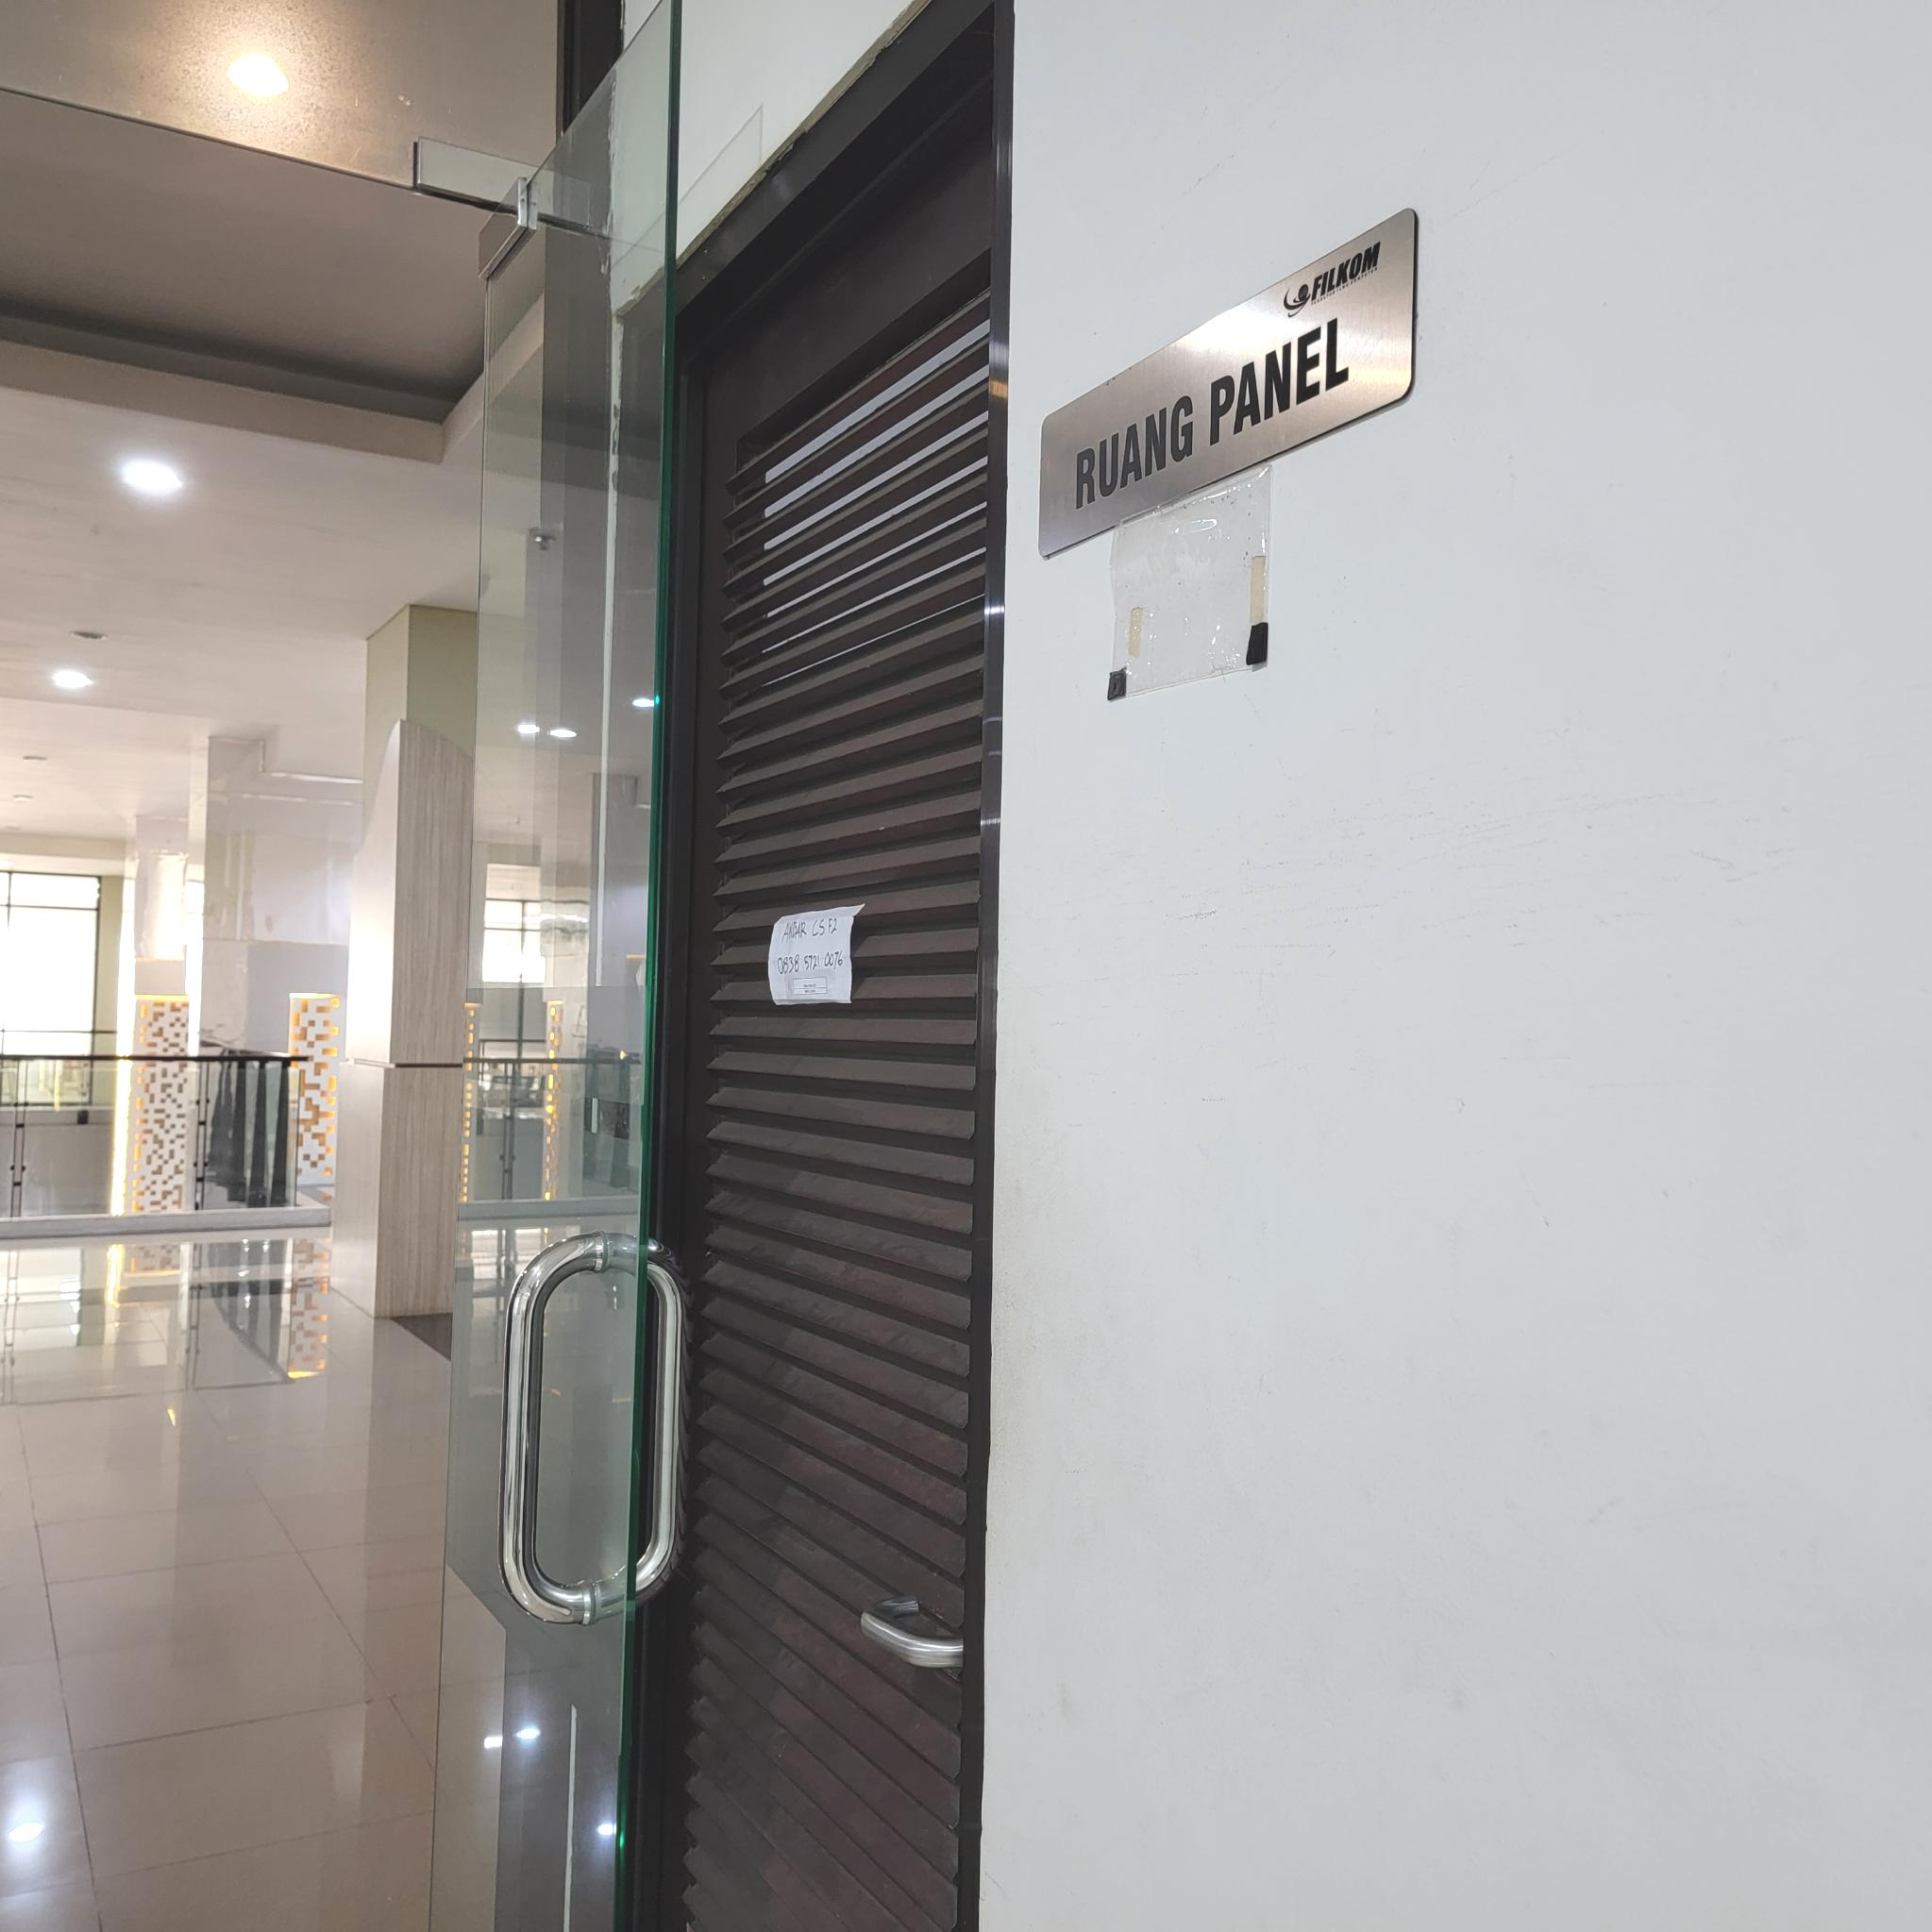plate: (1037, 203, 1417, 561)
